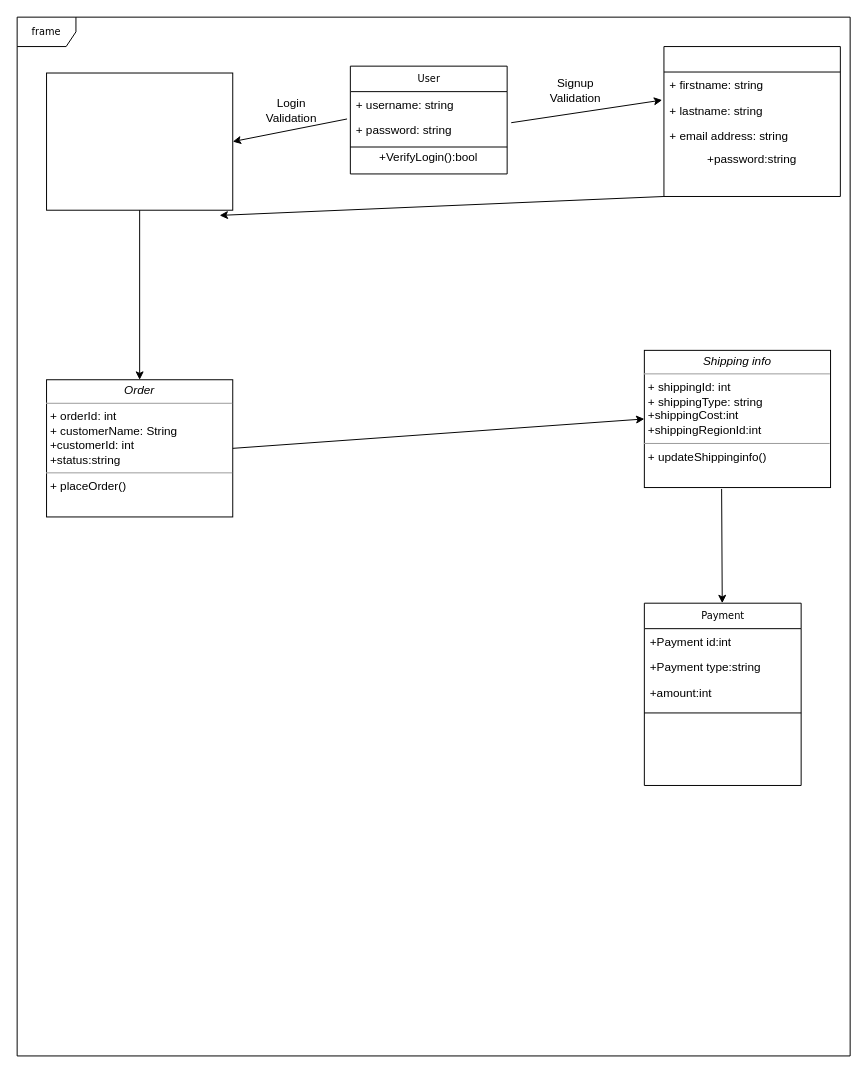
Some shapes in this 867 by 1073 pixel diagram are drawn without their labels. The box of each missing label's shape, as (x1, y1, x2, y2) in pixels:
Shopping Gift + Type: String + Quantity: int +updateQuantity() +additem(): (46, 72, 233, 210)
Signup: (663, 46, 840, 196)
